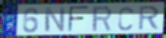6: (22, 6, 40, 34)
C: (117, 5, 135, 31)
F: (67, 6, 91, 34)
N: (43, 7, 66, 33)
R: (137, 5, 162, 32), (91, 5, 113, 33)
